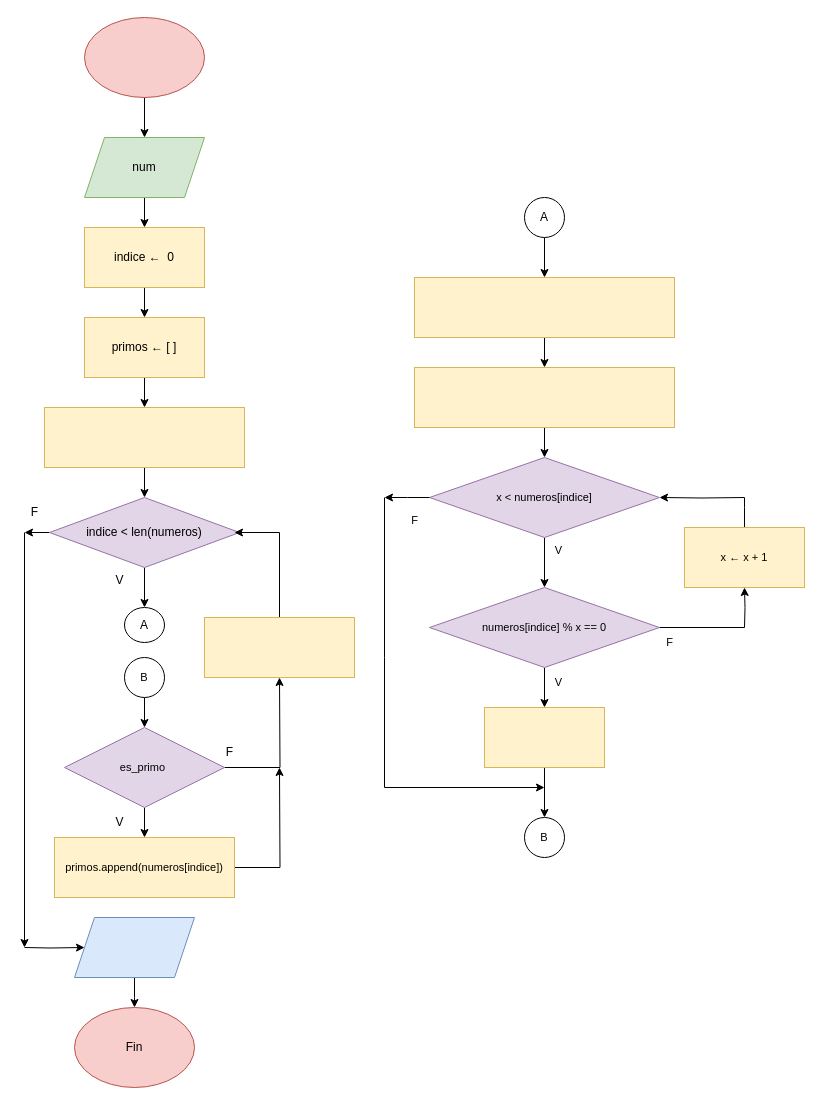
This 822x1105 diagram has some shape labels left out. The centre of each missing label's shape, as x and y in pixels:
"es_primo ← False" goes at (544,737).
"es_primo ← True" goes at (544,307).
"indice ← indice + 1" goes at (279,647).
"Inicio" goes at (144,57).
"numeros ← range(2,num+1)" goes at (144,437).
"primos" goes at (134,947).
"x ← 2" goes at (544,397).
